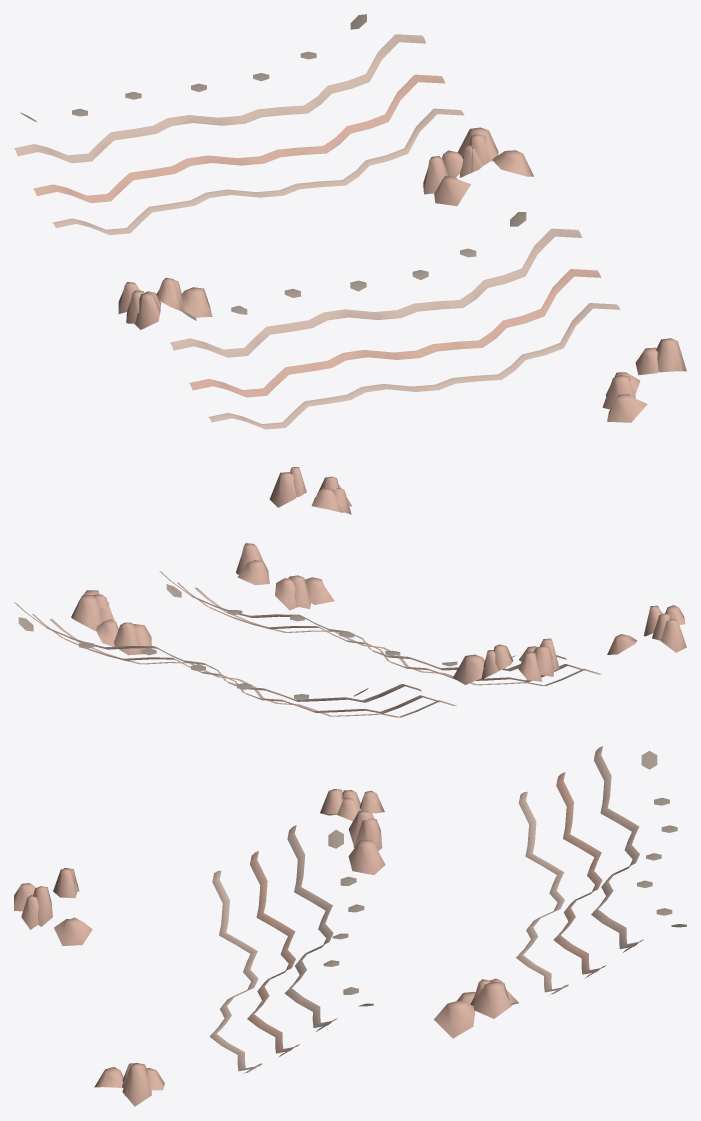
The model's file is bench_coping_detail1.glb.
3 views of the same model, one above another, from view 1: azimuth 30°, elevation 25°; view 2: azimuth 150°, elevation 25°; view 3: azimuth 270°, elevation 25° (orthographic). The views are drawn at different scales.
Visible parts, largest first — view 1: bench_coping_detail1_mesh; view 2: bench_coping_detail1_mesh; view 3: bench_coping_detail1_mesh.
Part boxes in pixels (left/top/right/bottom): bench_coping_detail1_mesh: left=14, top=14, right=686, bottom=514; bench_coping_detail1_mesh: left=14, top=543, right=686, bottom=717; bench_coping_detail1_mesh: left=14, top=746, right=686, bottom=1106.
Bounding box in the file's own units: 24.01 × 9.12 × 30.93.
